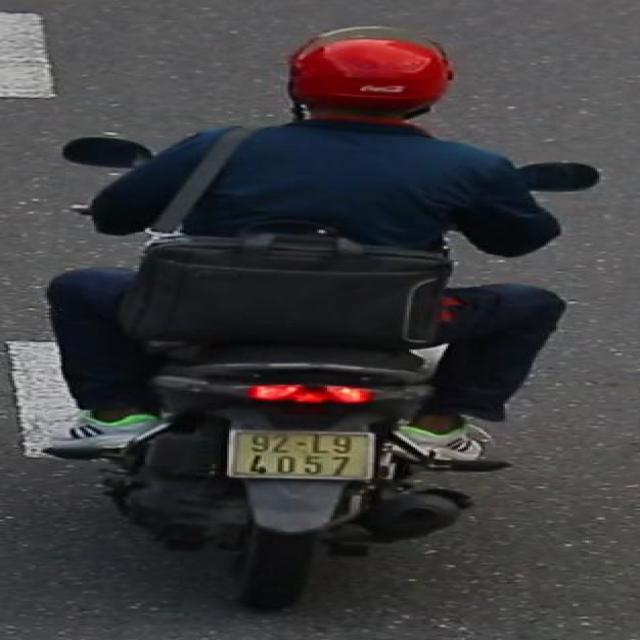LP: (221, 423, 380, 483)
helmet: (279, 32, 461, 133)
